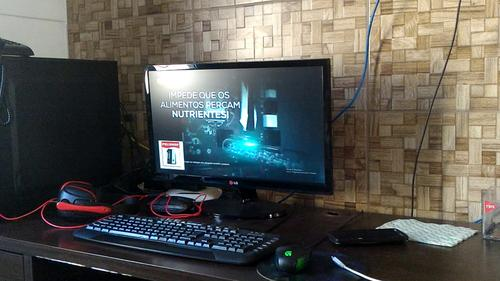Polishop #1: (158, 138, 184, 170)
